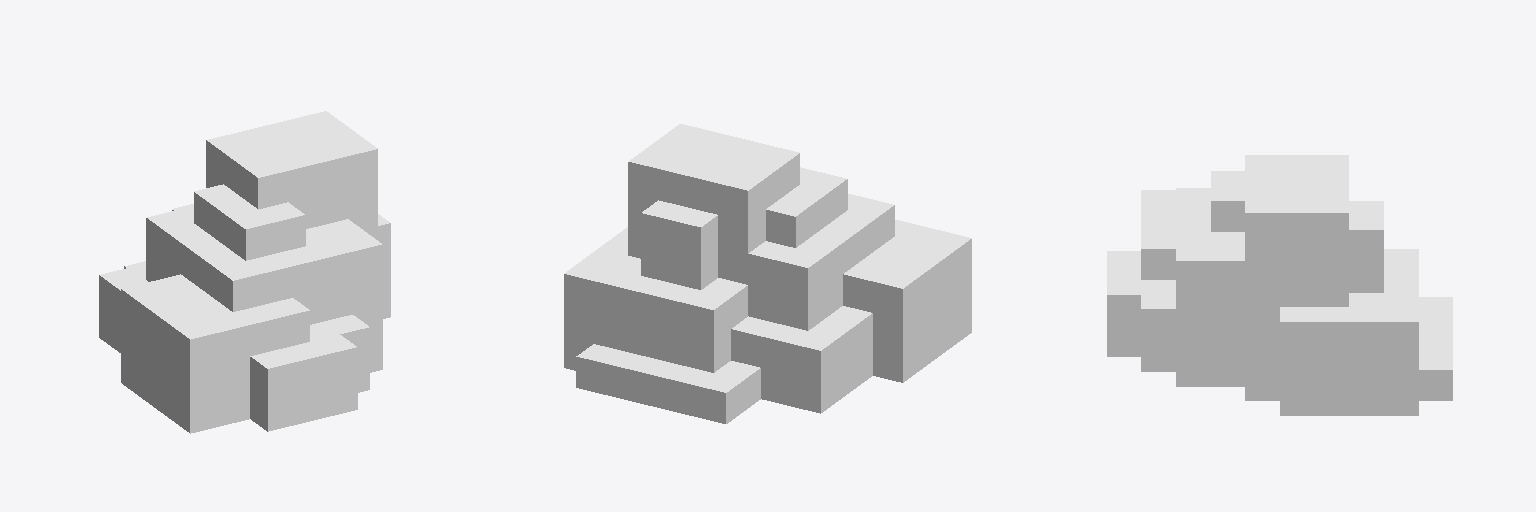
File: rocks-2.obj
3 renders of one model, left to right at view 1: azimuth 30°, elevation 25°; view 2: azimuth 150°, elevation 25°; view 3: azimuth 270°, elevation 25°, orthographic.
Visible parts, largest first — view 1: object 1; view 2: object 1; view 3: object 1.
Part boxes in pixels (x1,y1,x2,y2): object 1: (99,111,390,433); object 1: (564,124,971,423); object 1: (1107,155,1452,415).
Bounding box in the file's own units: 0.9 × 0.6 × 1.